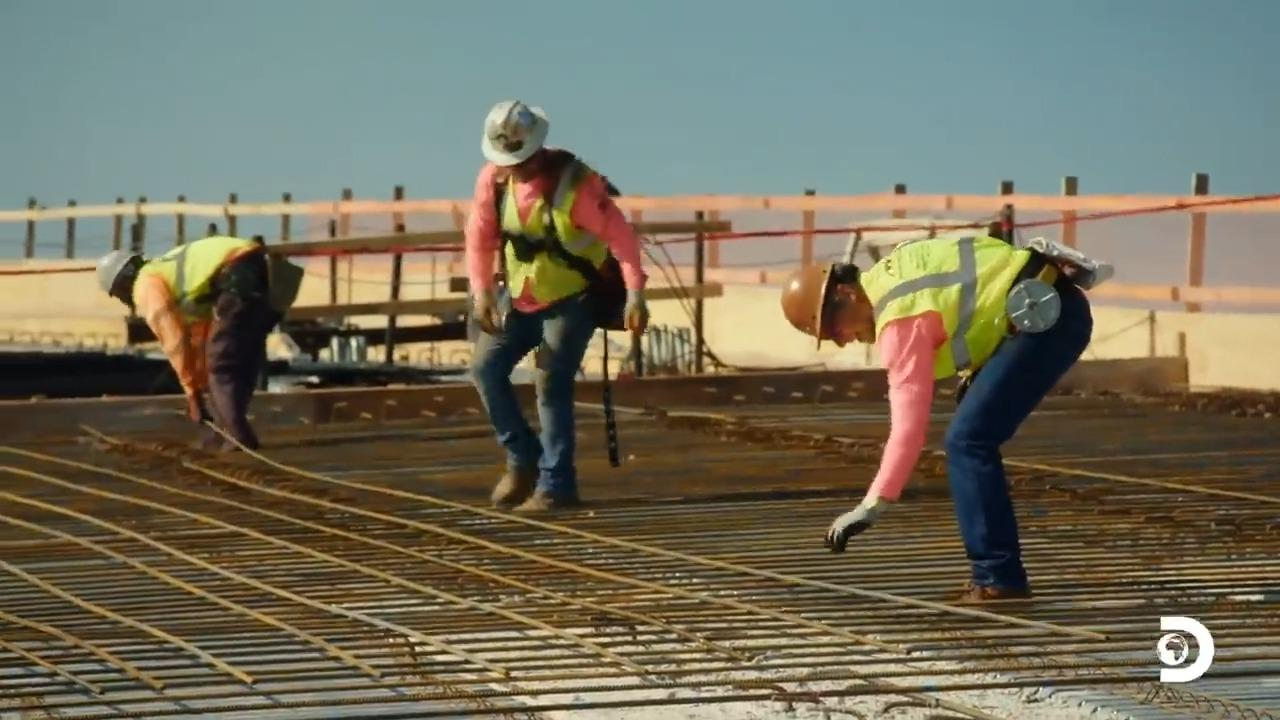Gloves: (822, 503, 867, 555), (615, 289, 654, 341), (472, 290, 502, 345)
Helmet: (780, 260, 865, 349), (480, 99, 549, 167), (95, 249, 144, 305)
Person: (780, 233, 1113, 604), (463, 99, 649, 513), (95, 234, 303, 453)
Safety Boot: (948, 586, 1035, 617), (519, 485, 578, 511), (496, 464, 530, 509)
Safety Vest: (886, 250, 1040, 359), (493, 178, 602, 311), (164, 249, 256, 308)
